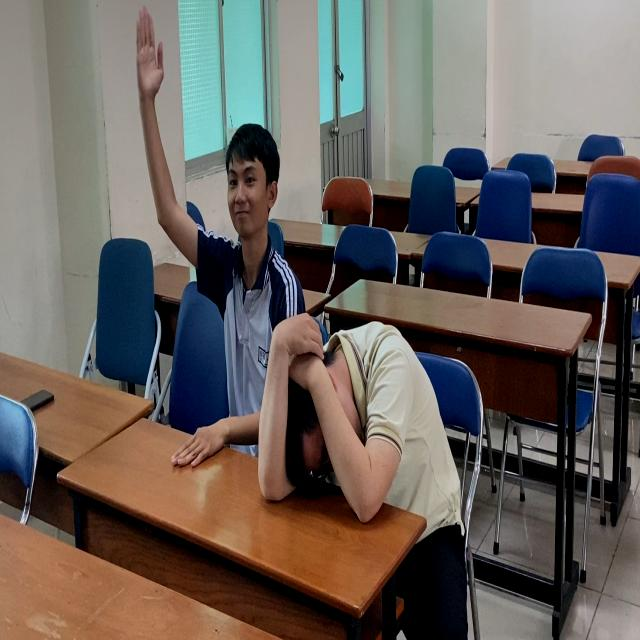raise_hand: (130, 22, 288, 465)
sleep: (249, 317, 467, 544)
